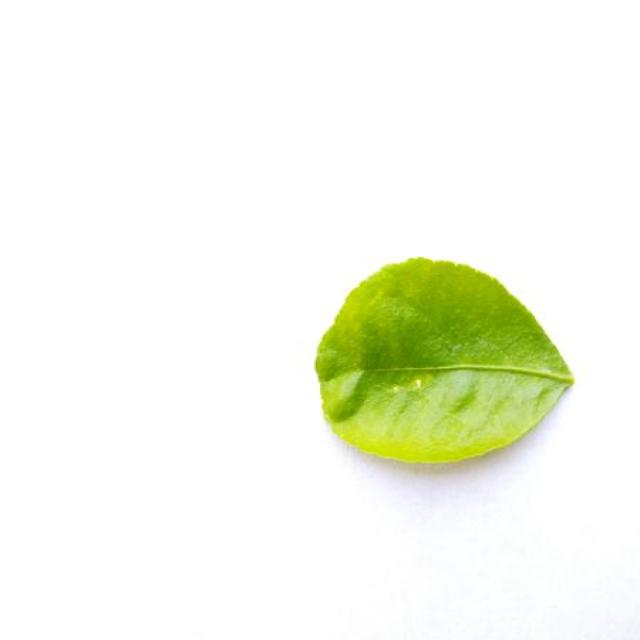lemon: (315, 258, 573, 462)
